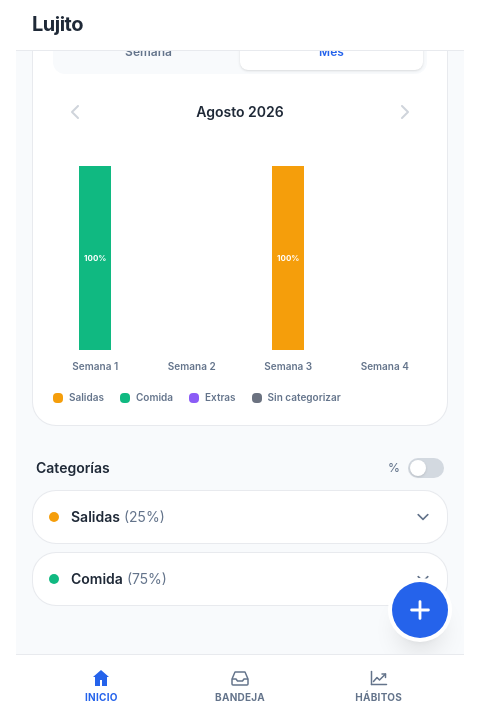
Scenario: PantallaDashboard — pestañas de granularidad con datos reales (trabajo ad hoc) › expandir una categoría lista sus gastos individuales con comercio, llegados desde filasDetalladas (trabajo ad hoc)
(page scrolled)
Click the button with test id "categoria-toggle-Comida": (97,578) [33, 553, 447, 605]
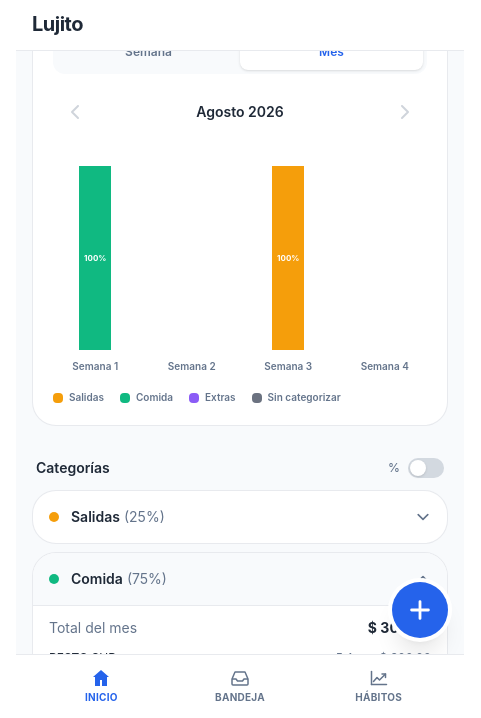
Now the text "RESTO SUR" is shown, box [49, 650, 116, 666]
